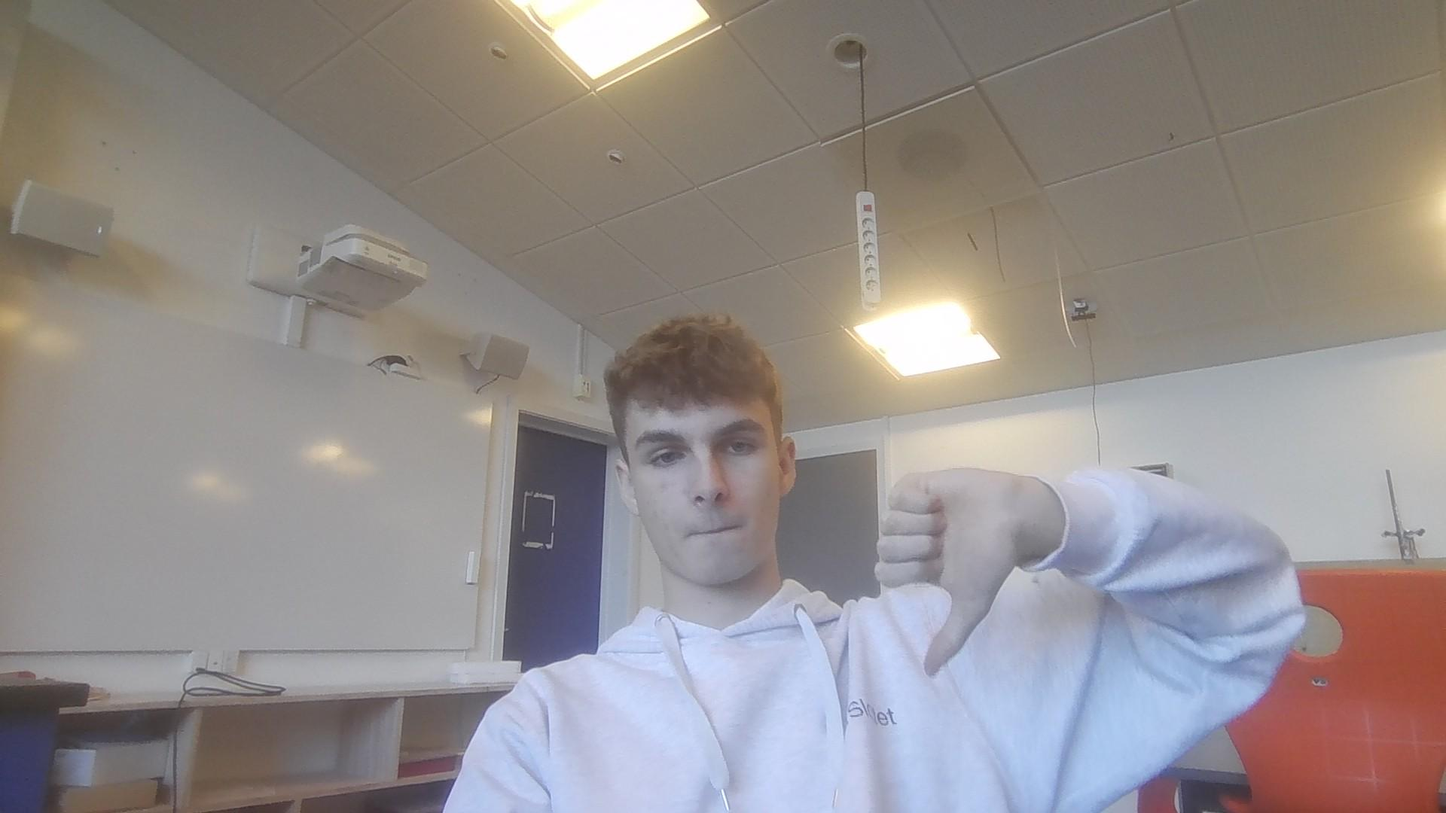thumbs down: (874, 463, 1034, 684)
